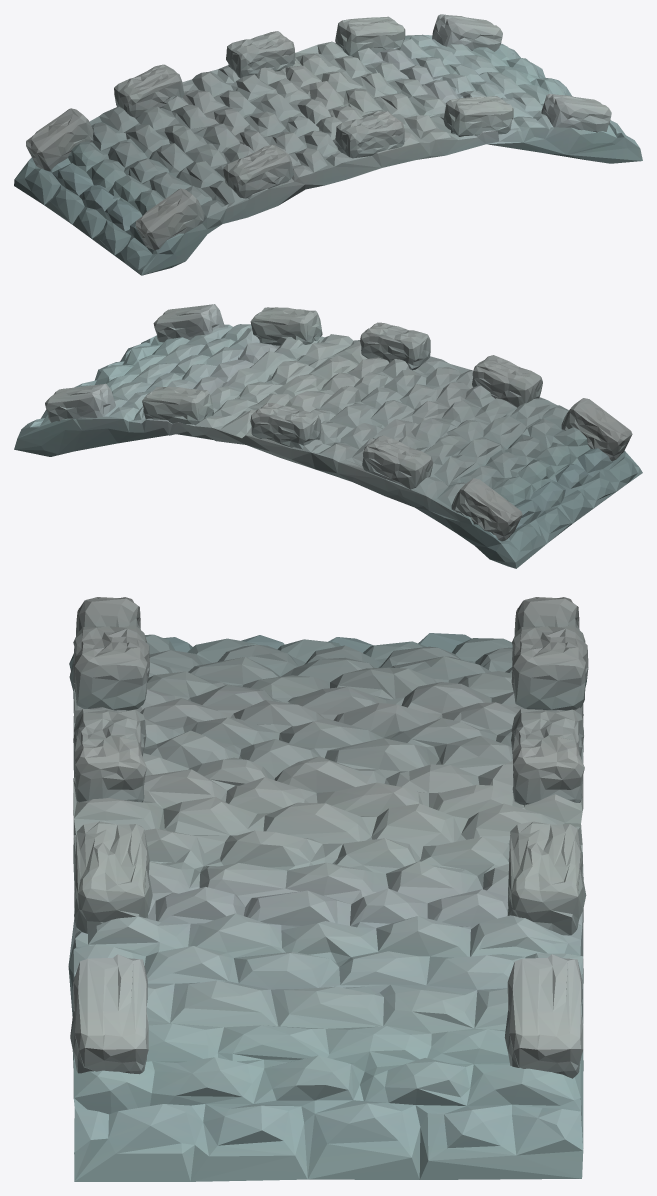
The model's file is Bridge_v02.FBX.
3 views of the same model, one above another, from view 1: azimuth 30°, elevation 25°; view 2: azimuth 150°, elevation 25°; view 3: azimuth 270°, elevation 25° (orthographic). The views are drawn at different scales.
Parts seen in each view (by area): view 1: Group56824; view 2: Group56824; view 3: Group56824.
Part boxes in pixels (x1,y1,x2,y2): Group56824: (14, 14, 642, 275); Group56824: (14, 304, 642, 568); Group56824: (68, 597, 588, 1181).
Size of the model in its own units: 751 by 141 by 336.
